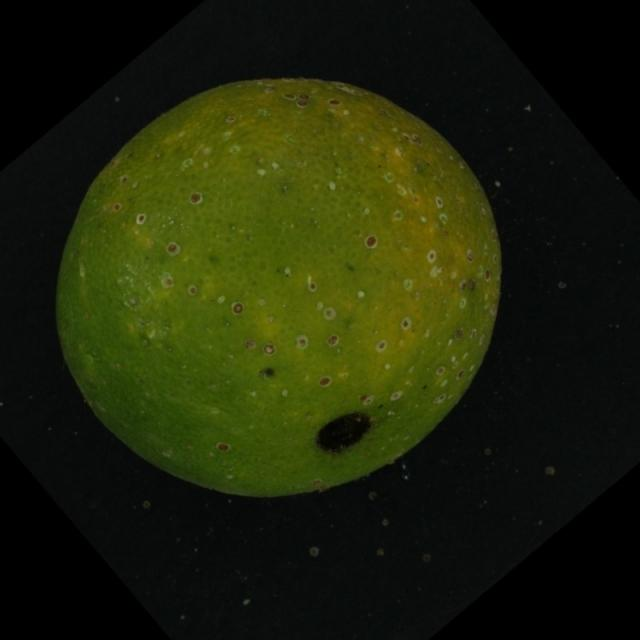grenning: (46, 52, 520, 541)
